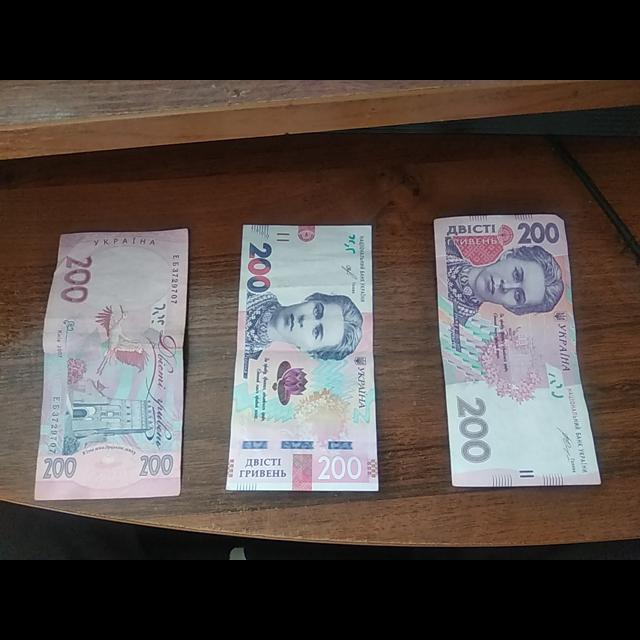200uah: (240, 226, 382, 492), (37, 236, 181, 496), (438, 216, 570, 484)
